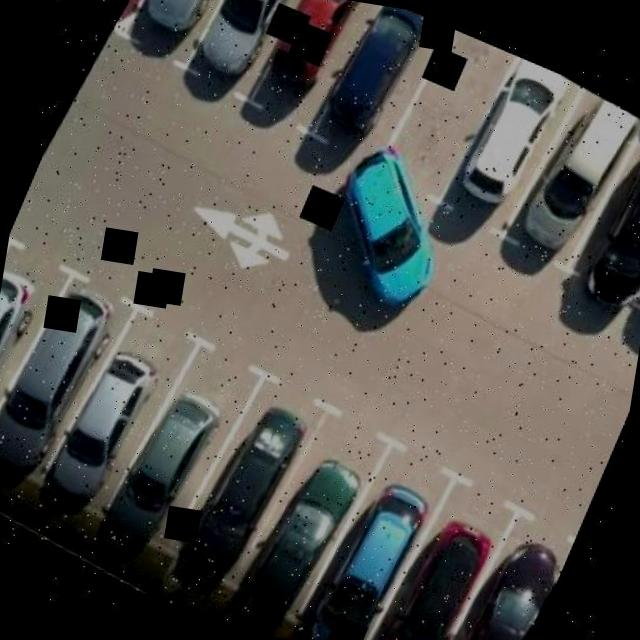car: (0, 277, 123, 487), (34, 334, 164, 526), (176, 388, 298, 590), (246, 445, 372, 629), (518, 84, 634, 270), (328, 144, 450, 306), (456, 47, 566, 218), (326, 469, 440, 623), (322, 0, 424, 147), (446, 525, 567, 640), (123, 381, 224, 512), (395, 511, 497, 640), (578, 140, 640, 311), (266, 0, 350, 102), (191, 0, 288, 85), (0, 262, 48, 389), (132, 0, 213, 44)
